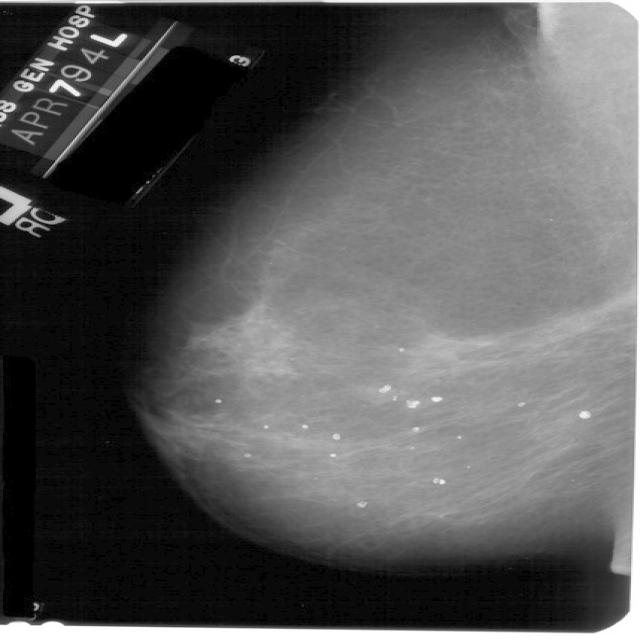tumour: (361, 386, 395, 403)
